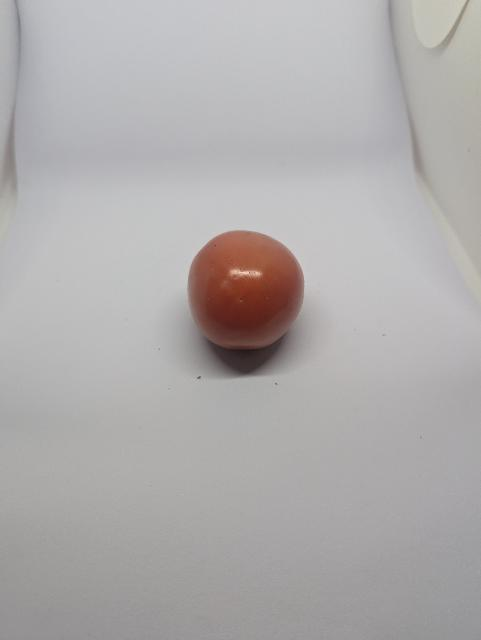red: (184, 220, 310, 362)
